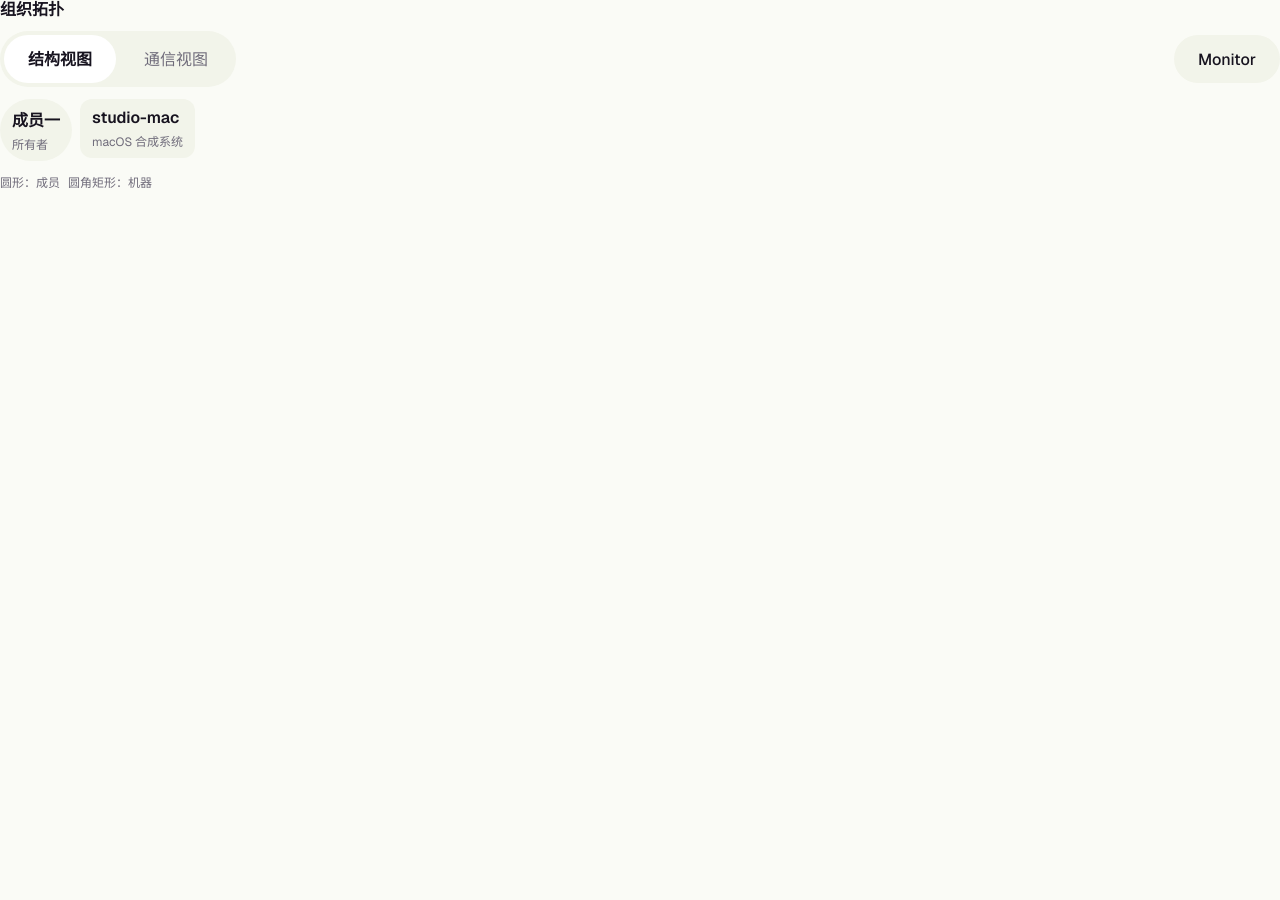
Test case: J7 communication and panels › opens and closes Monitor with the recent communication record
The image size is (1280, 900).
Later steps or results of the test are not shown.
Click the button "Monitor" at (1227, 59), box x1=1174 y1=35 x2=1279 y2=83
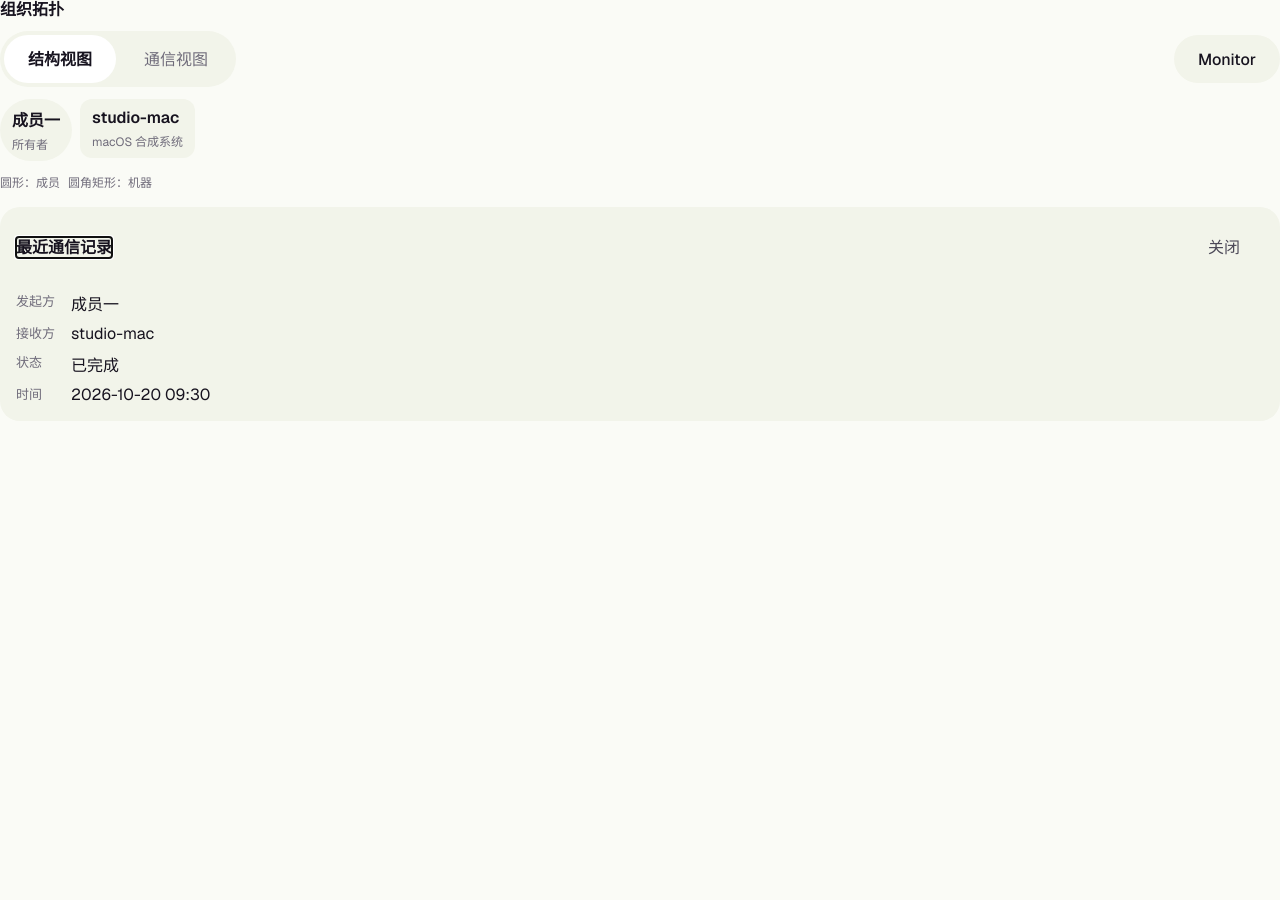
Check: the dialog is shown, box x1=0 y1=207 x2=1279 y2=421
Check: the heading "最近通信记录" is shown, box x1=16 y1=238 x2=112 y2=257
Check: the text "发起方" is shown, box x1=16 y1=291 x2=55 y2=315
